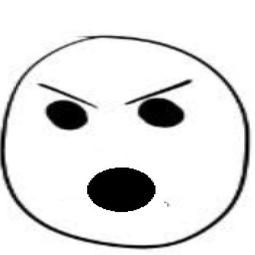eye: (41, 95, 92, 133), (136, 94, 188, 129)
frowning_eyebrow: (37, 76, 99, 111), (123, 75, 192, 105)
open_mouth: (83, 162, 159, 221)
